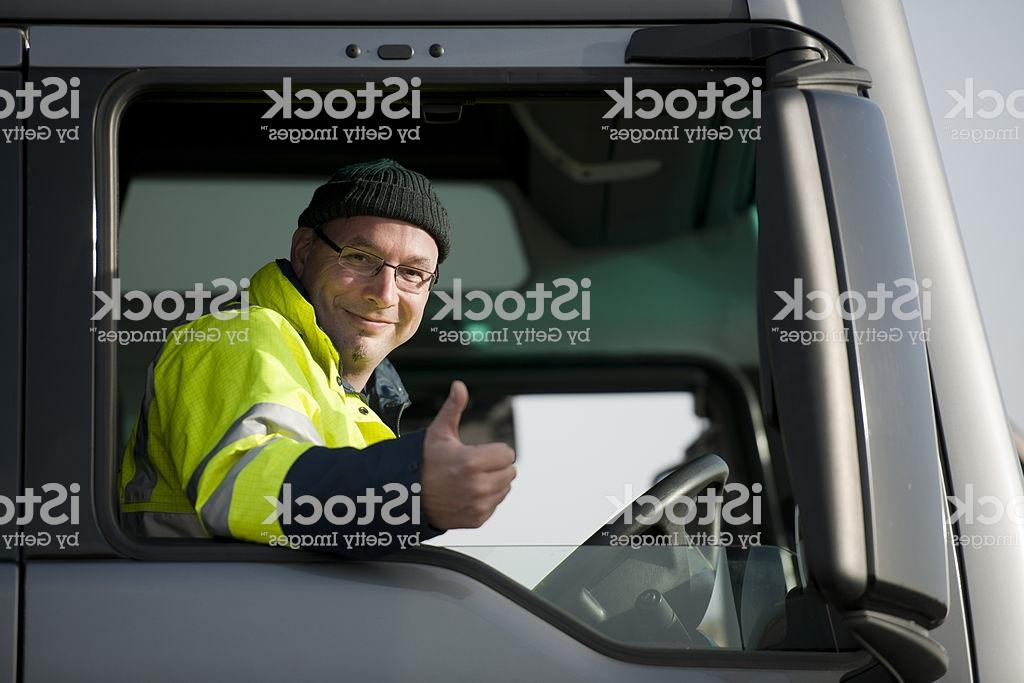thumbsup: (439, 379, 517, 530)
